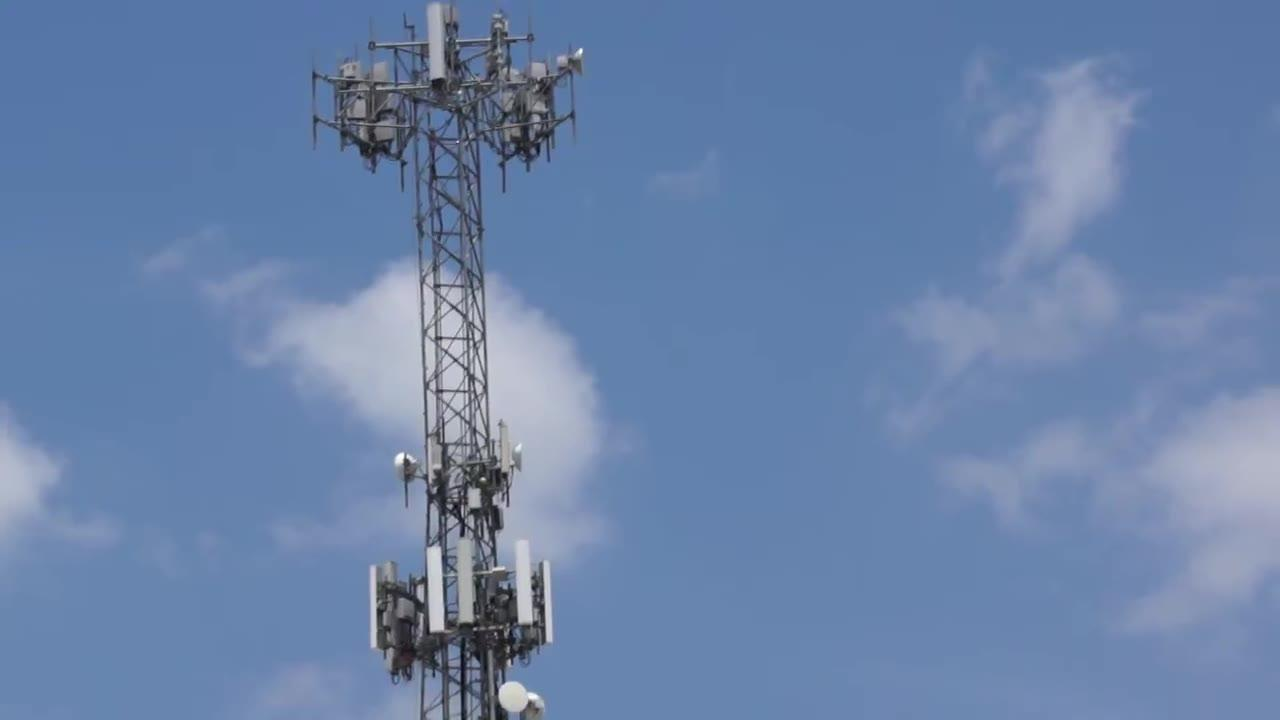Microwave Antenna: (391, 449, 428, 491), (557, 45, 586, 83), (507, 445, 532, 479)
antenna: (361, 552, 398, 668), (500, 542, 535, 663), (450, 531, 484, 647), (419, 541, 453, 649), (422, 0, 453, 108), (531, 562, 560, 673), (497, 414, 514, 474)
